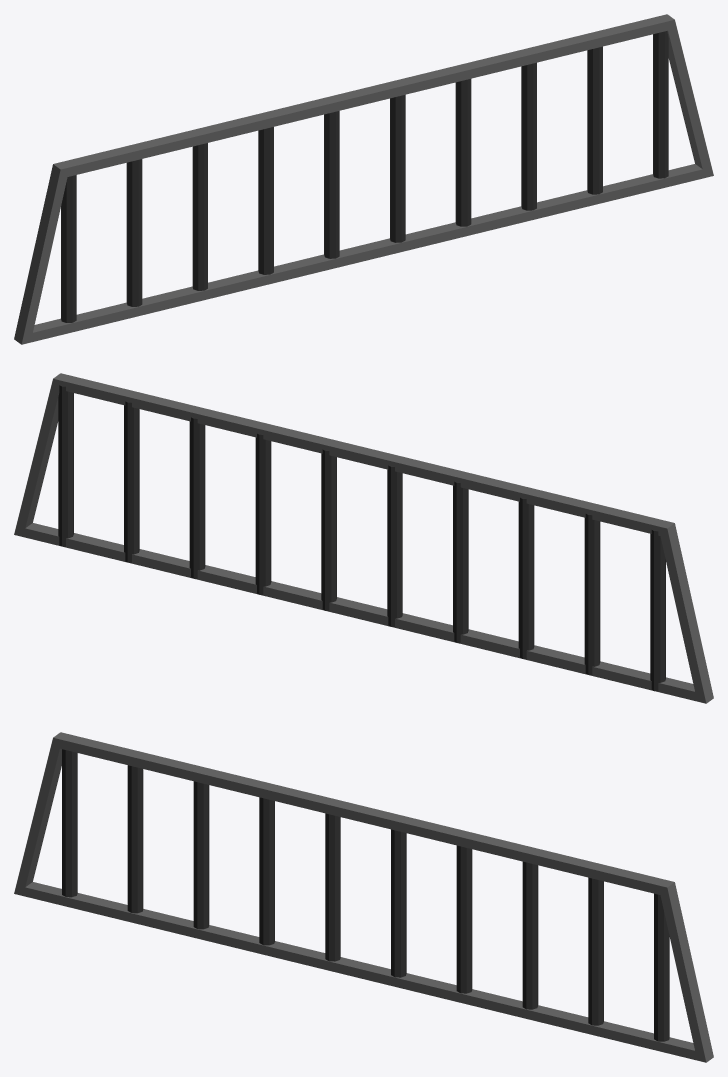
Rendered from backwindowbar.fbx.
3 renders of one model, top to bottom at view 1: azimuth 30°, elevation 25°; view 2: azimuth 150°, elevation 25°; view 3: azimuth 330°, elevation 25°, orthographic.
Parts seen in each view (by area): view 1: Cube.001; view 2: Cube.001; view 3: Cube.001.
Boxes of the visible parts, x1=… form: Cube.001: x1=14, y1=14, x2=713, y2=344; Cube.001: x1=14, y1=373, x2=713, y2=703; Cube.001: x1=14, y1=732, x2=713, y2=1062.
Size of the model in its own units: 158 by 36.14 by 3.31.
Materials: 1 (1 with a texture image).
